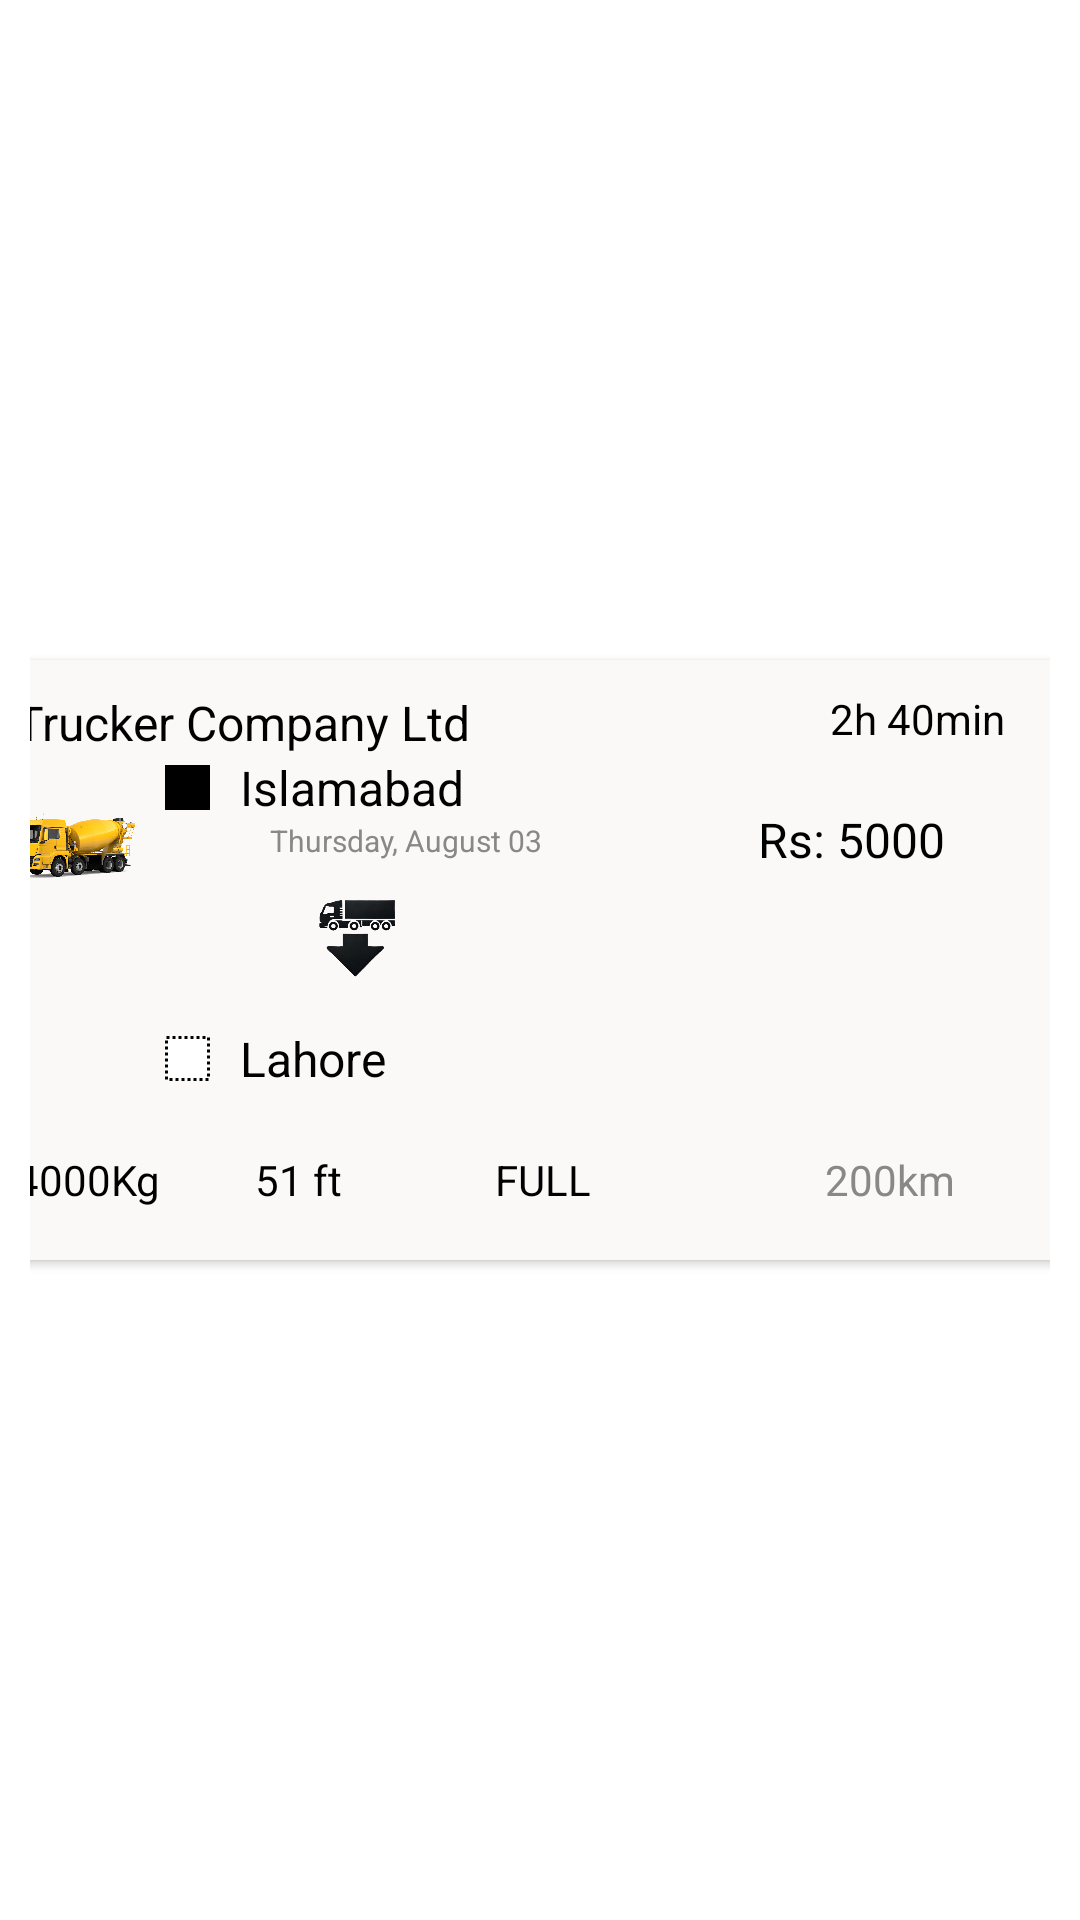

Point at icon controls on the screen. Image size 1080 x 1920, points as point (x, y).
arrow: point (357, 938)
